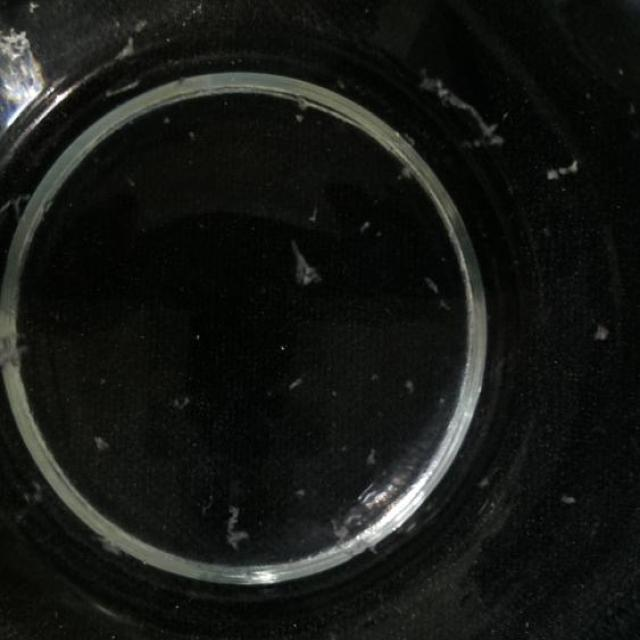fiber: (413, 65, 508, 150), (224, 500, 249, 559), (287, 242, 320, 286), (105, 72, 142, 104), (547, 150, 580, 182), (0, 333, 27, 369), (590, 320, 614, 350), (289, 102, 314, 120), (284, 374, 310, 391), (559, 489, 581, 507), (168, 398, 193, 412), (399, 379, 420, 395), (91, 432, 110, 449), (420, 278, 441, 291), (354, 218, 374, 230), (363, 448, 378, 461), (396, 166, 415, 176), (186, 125, 196, 140)
